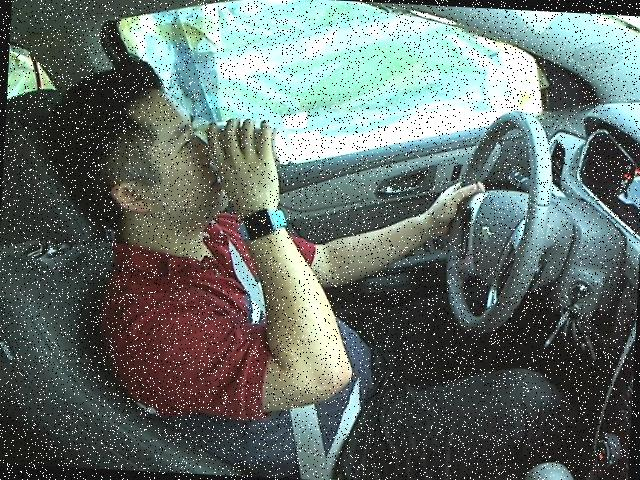c4 - Drinking: (20, 46, 578, 437)
